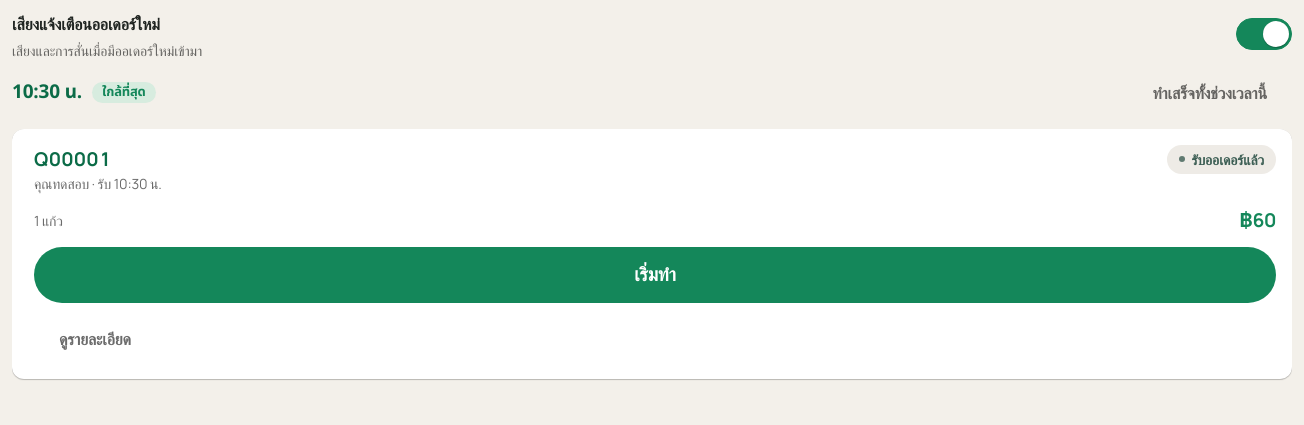
Test case: WBS 5.9 — InboxClient: a failed single-order transition rolls back visibly with a Thai explanation › a SUCCESSFUL transition leaves the optimistic status in place and shows no error
Click the button with test id "order-card-advance".
click(655, 274)  # box [34,246,1276,302]
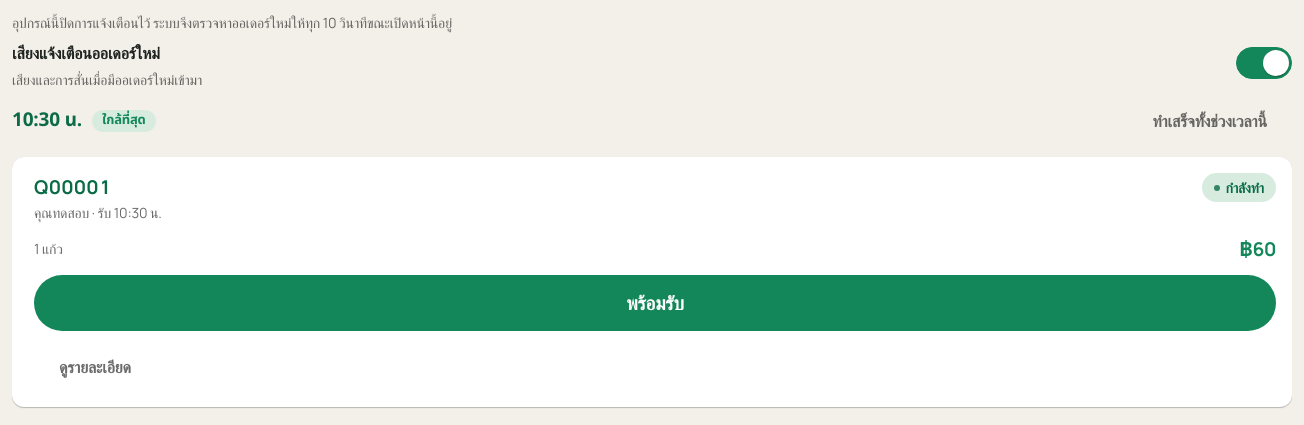
Expected: the text "กำลังทำ" is shown, [1202,173,1276,202]
